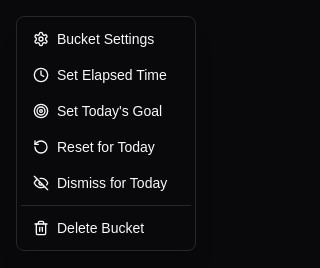
Test: BucketContextMenu › switches to setTime view when "Set Elapsed Time" is clicked
Click the menu item "Set Elapsed Time" at (106, 75), box [21, 57, 191, 93]
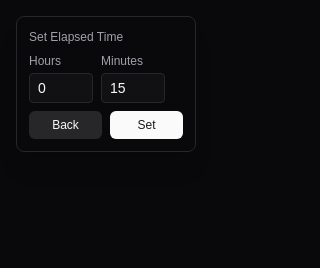
Expected: the menu item "Bucket Settings" is gone
Expected: the text "Hours" is shown, [29, 54, 61, 68]
Expected: the text "Minutes" is shown, [101, 54, 143, 68]
